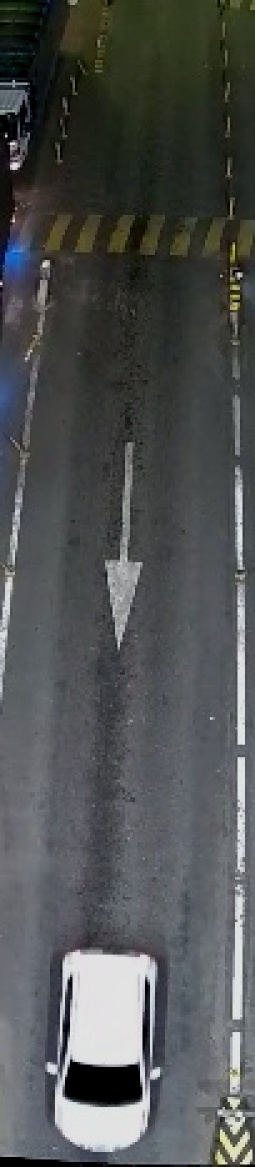car: (36, 936, 175, 1159)
truck: (1, 0, 83, 175)
